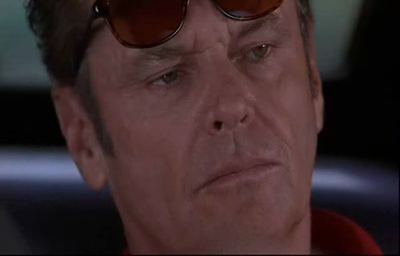ecu: (1, 1, 400, 256)
face: (96, 1, 315, 256)
person: (21, 1, 382, 256)
